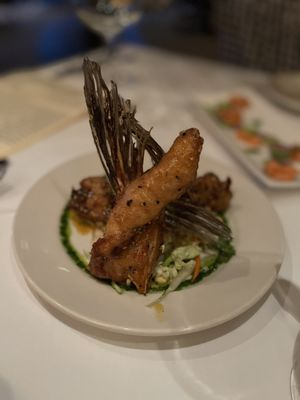soup: (88, 127, 234, 297)
